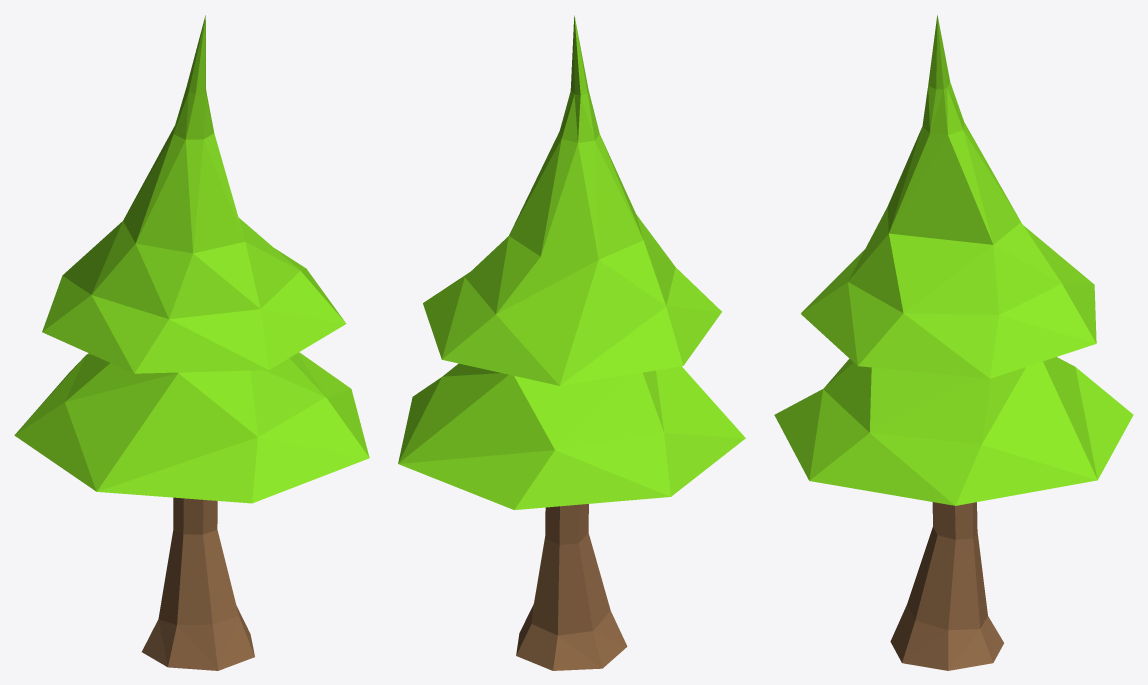
The model's file is wood_01.FBX.
3 views of the same model, side by side, from view 1: azimuth 30°, elevation 25°; view 2: azimuth 150°, elevation 25°; view 3: azimuth 270°, elevation 25° (orthographic).
Visible parts, largest first — view 1: wood_01; view 2: wood_01; view 3: wood_01.
Boxes of the visible parts, x1,y1,x2,y2 form: wood_01: (14, 15, 369, 670); wood_01: (398, 15, 745, 670); wood_01: (774, 15, 1133, 670).
Size of the model in its own units: 36.12 by 73.68 by 37.74.
